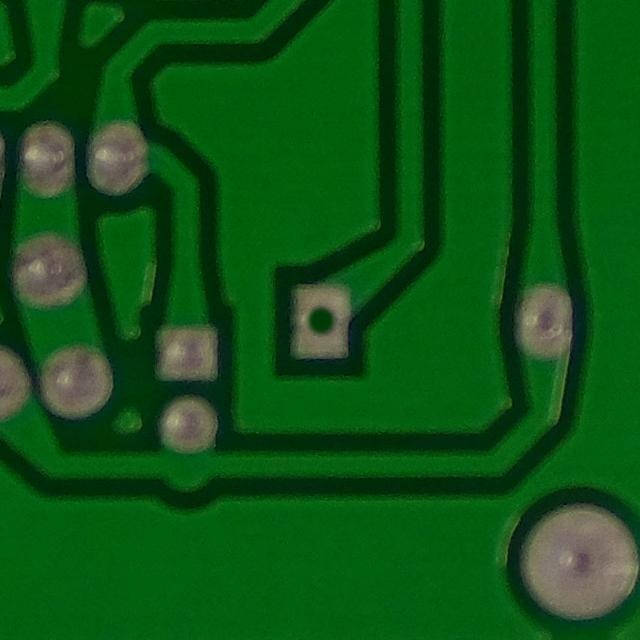missing_hole: (279, 276, 362, 369)
